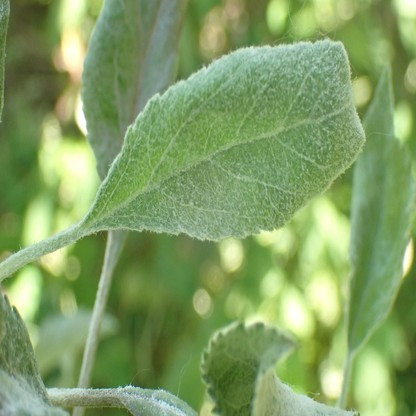powdery_mildew: (87, 40, 365, 242), (200, 317, 360, 416), (0, 292, 63, 414), (121, 387, 185, 416)
